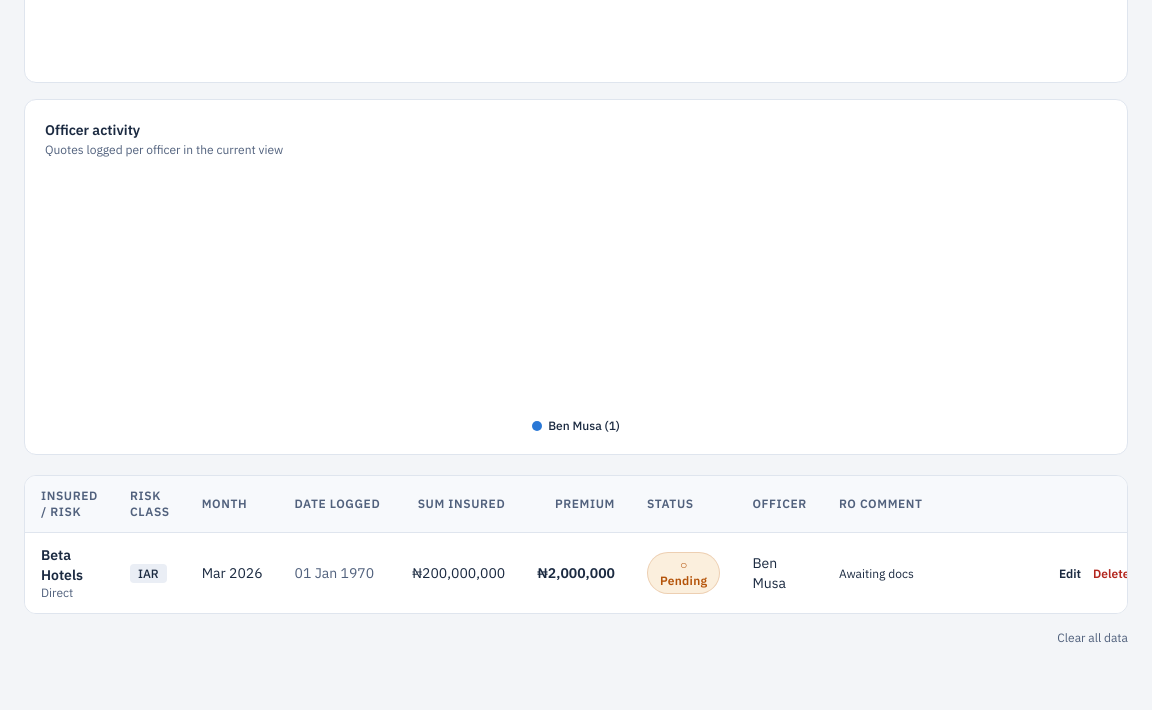
UnitRegister › toggles conversion status from the table and persists the change
(page scrolled)
Expected: the text "Beta Hotels" is shown, [41,546,83,584]
Click the button "○ Pending" at coordinates (684, 573), box [647,552,720,594]
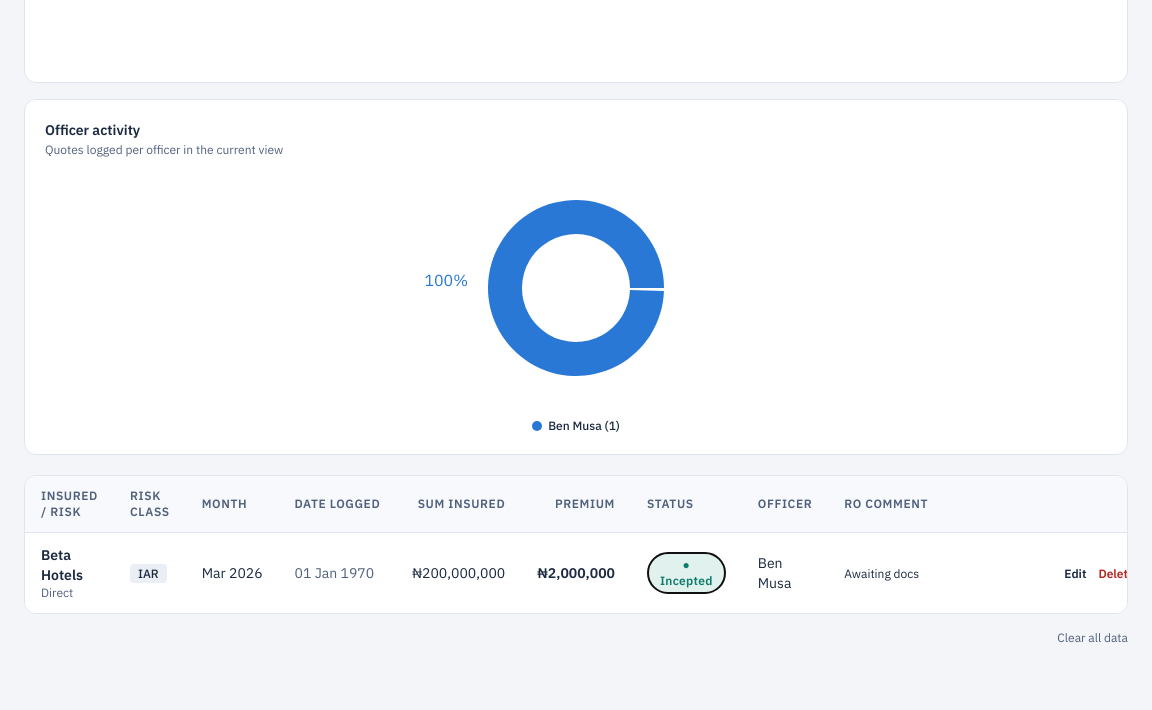
Expected: the button "● Incepted" is shown, [647,552,726,594]
